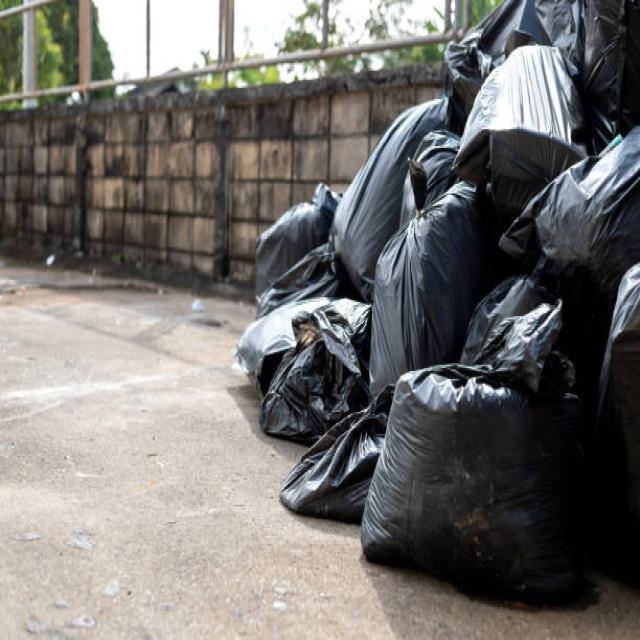Trashbag: (373, 376, 568, 588), (362, 206, 486, 391), (453, 47, 595, 202), (515, 134, 638, 290), (335, 90, 465, 228), (463, 275, 569, 392), (265, 328, 375, 426), (284, 408, 387, 512), (248, 192, 342, 298)
